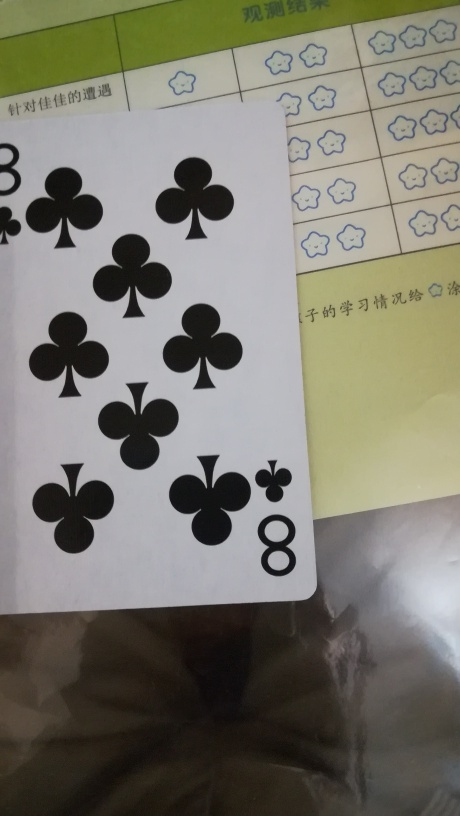mh 8: (0, 109, 321, 615)
